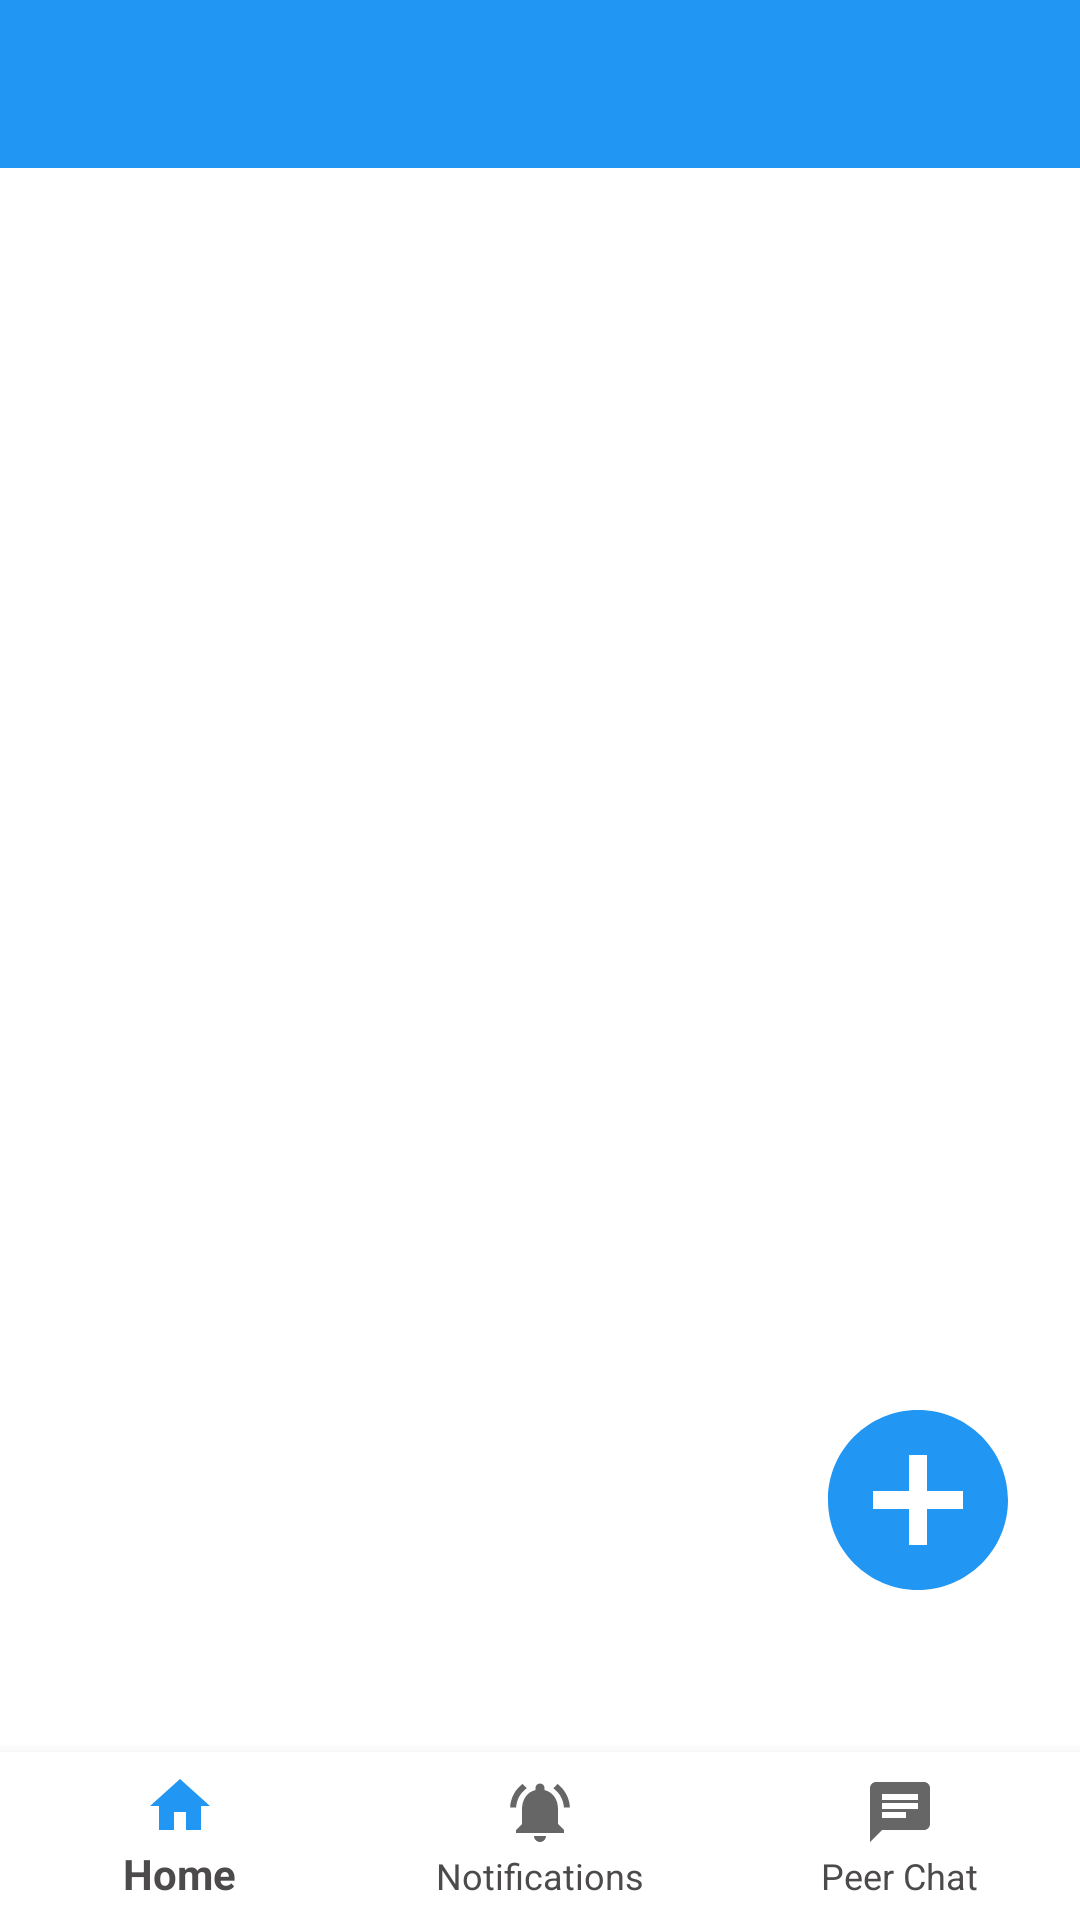

Icon bounding boxes for this 1080×1920 phone screenshot, format (x1, y1, x2, y2):
addpost: (828, 1410, 1008, 1590)
